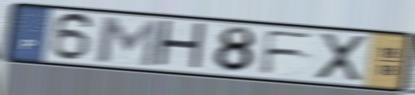6: (50, 11, 101, 63)
8: (210, 25, 256, 75)
F: (258, 28, 318, 76)
H: (152, 18, 209, 73)
M: (95, 14, 163, 69)
X: (315, 31, 369, 83)
